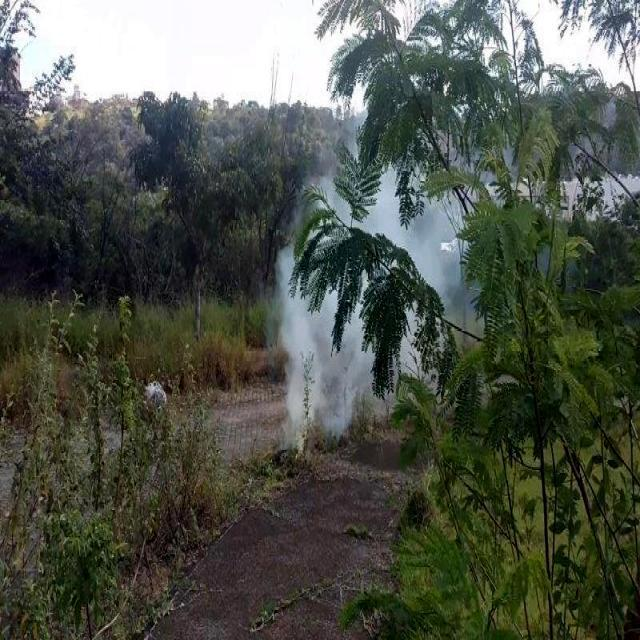Smoke: (274, 148, 474, 454)
